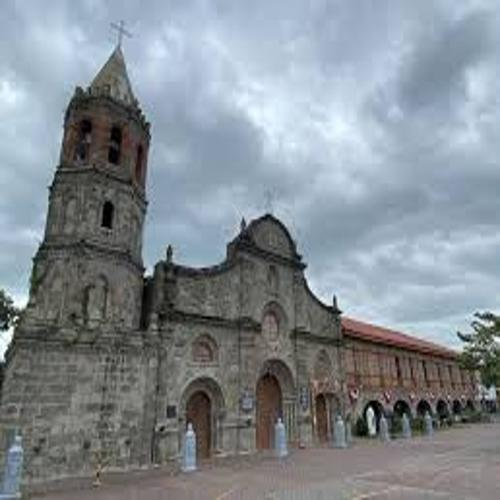Barasoain Church: (9, 14, 345, 456)
